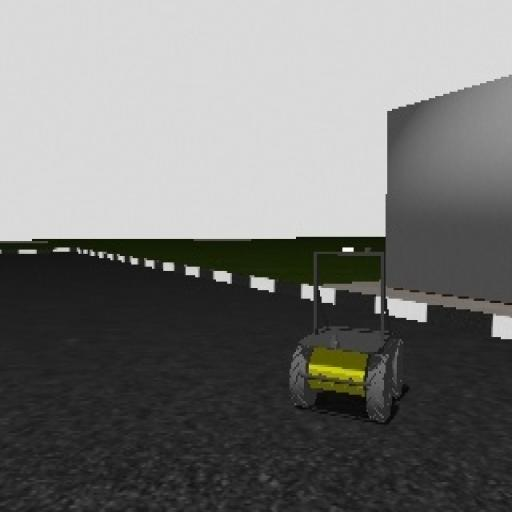huskya200: (281, 232, 417, 436)
